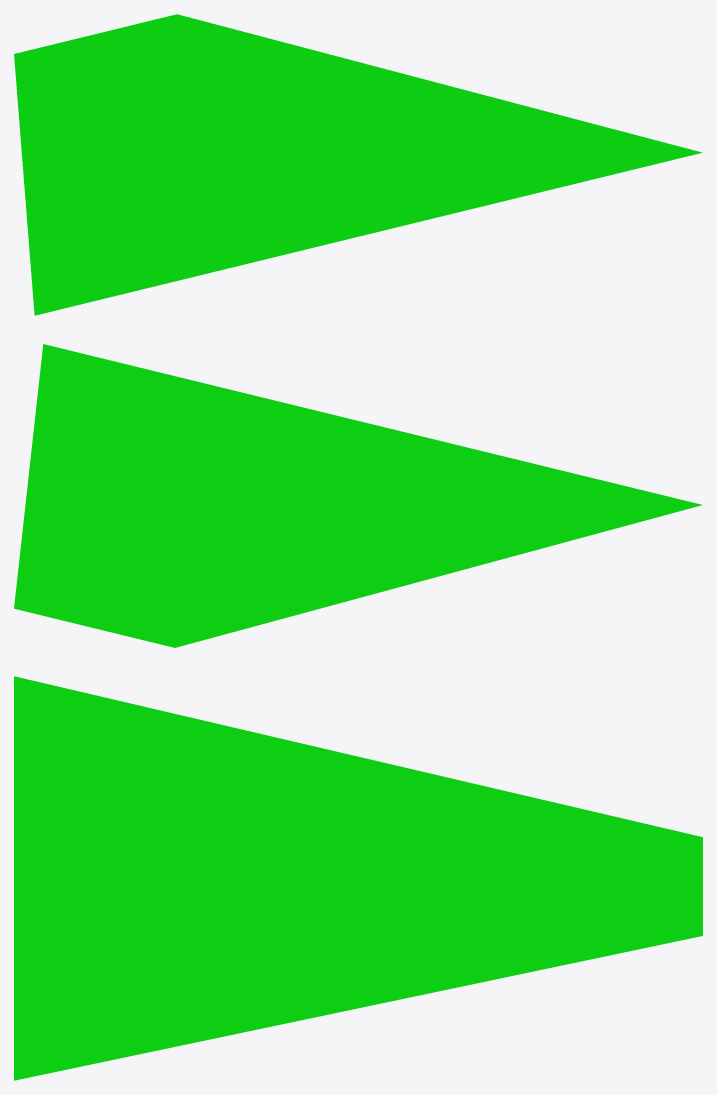
Rendered from grass_far.glb.
The picture shows the model from 3 angles, top to bottom: view 1: azimuth 30°, elevation 25°; view 2: azimuth 150°, elevation 25°; view 3: azimuth 270°, elevation 25°; orthographic projection. The views are drawn at different scales.
Parts seen in each view (by area): view 1: Plane; view 2: Plane; view 3: Plane.
Part boxes in pixels (x1,y1,x2,y2): Plane: (14, 14, 702, 315); Plane: (14, 344, 701, 647); Plane: (14, 676, 702, 1080).
Size of the model in its own units: 2 by 0.0123 by 1.44.
